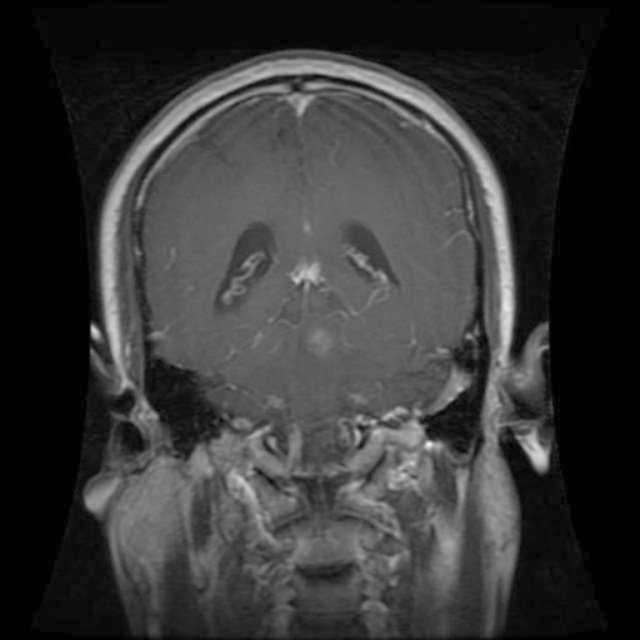pituitary tumor: (300, 312, 341, 358)
